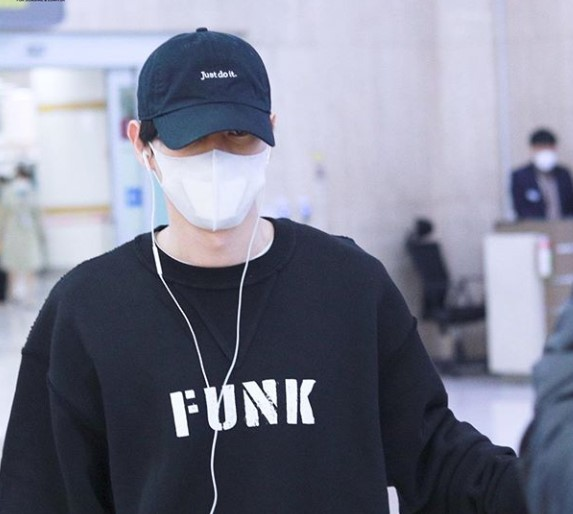face_with_mask: (128, 39, 273, 228)
